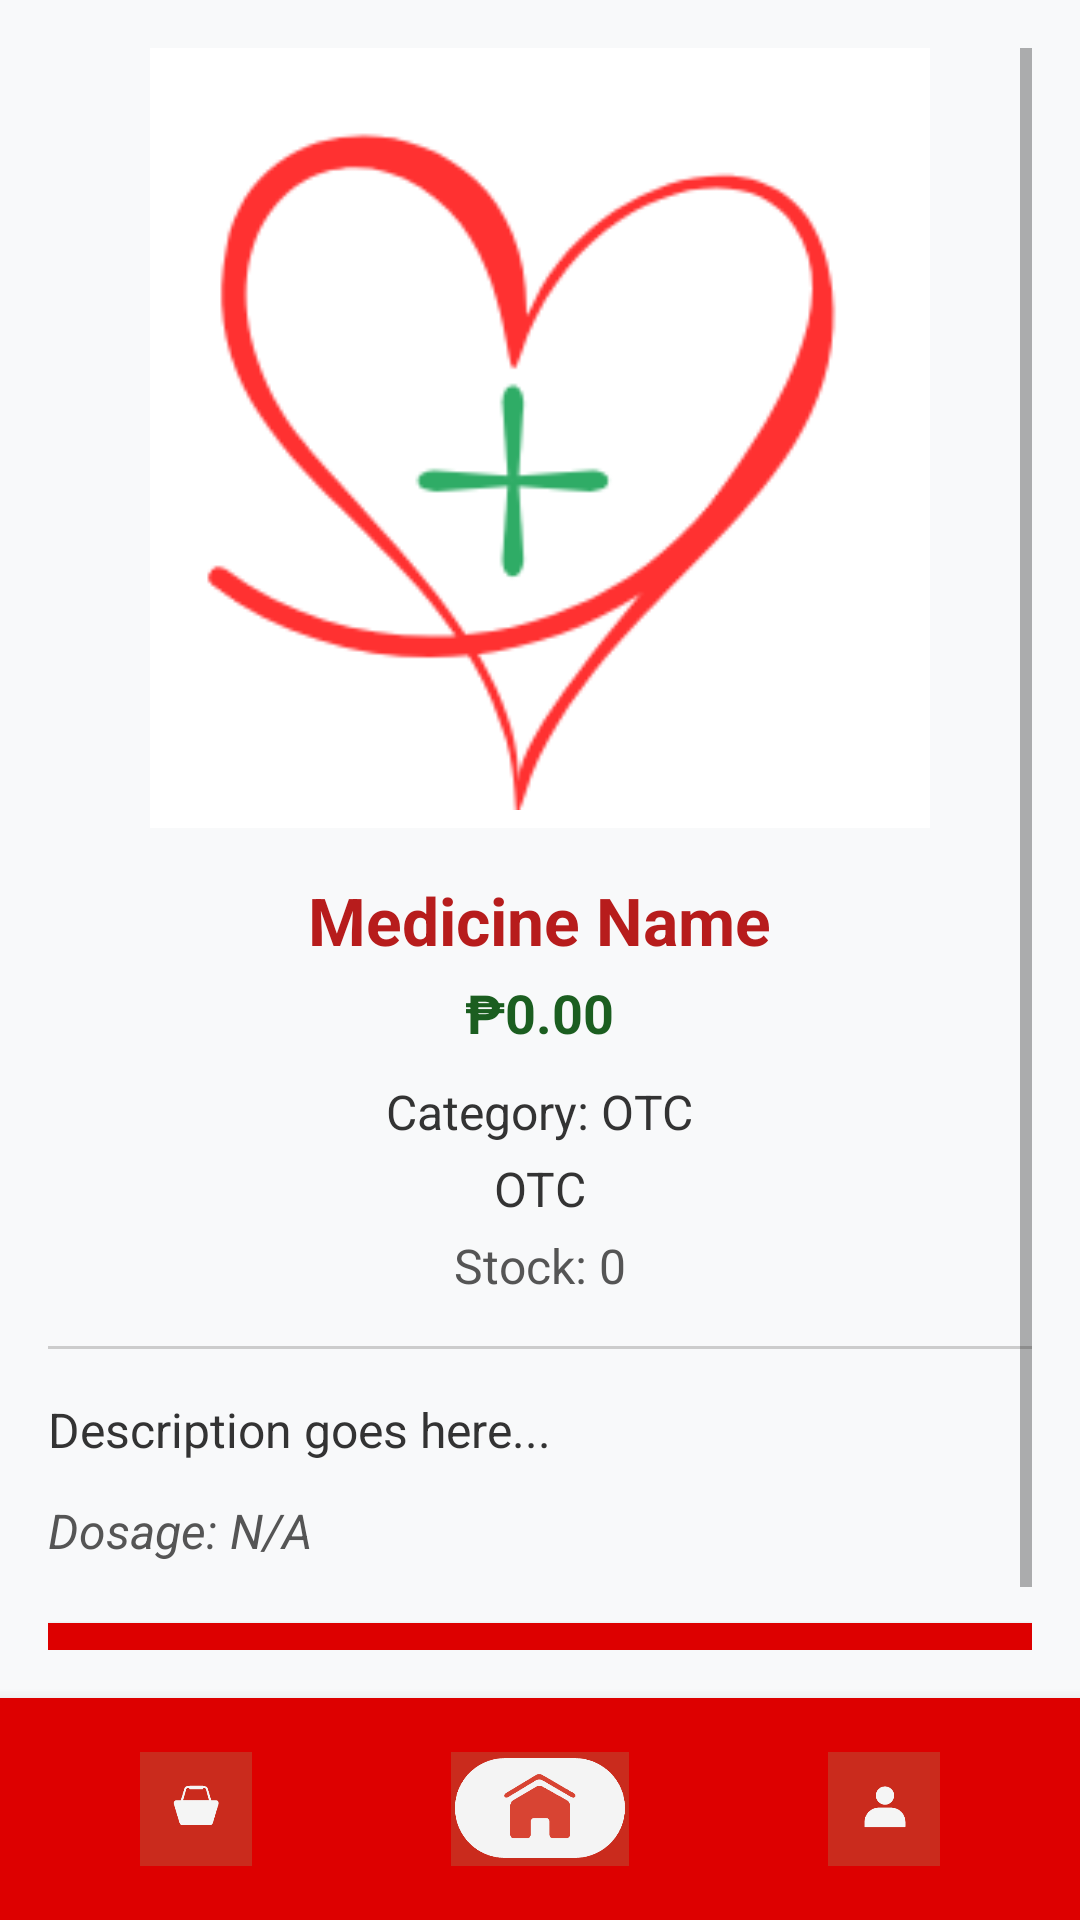

Named icons in this screenshot (1080*1920) and their centers, (x,y):
Home: (540,1809)
